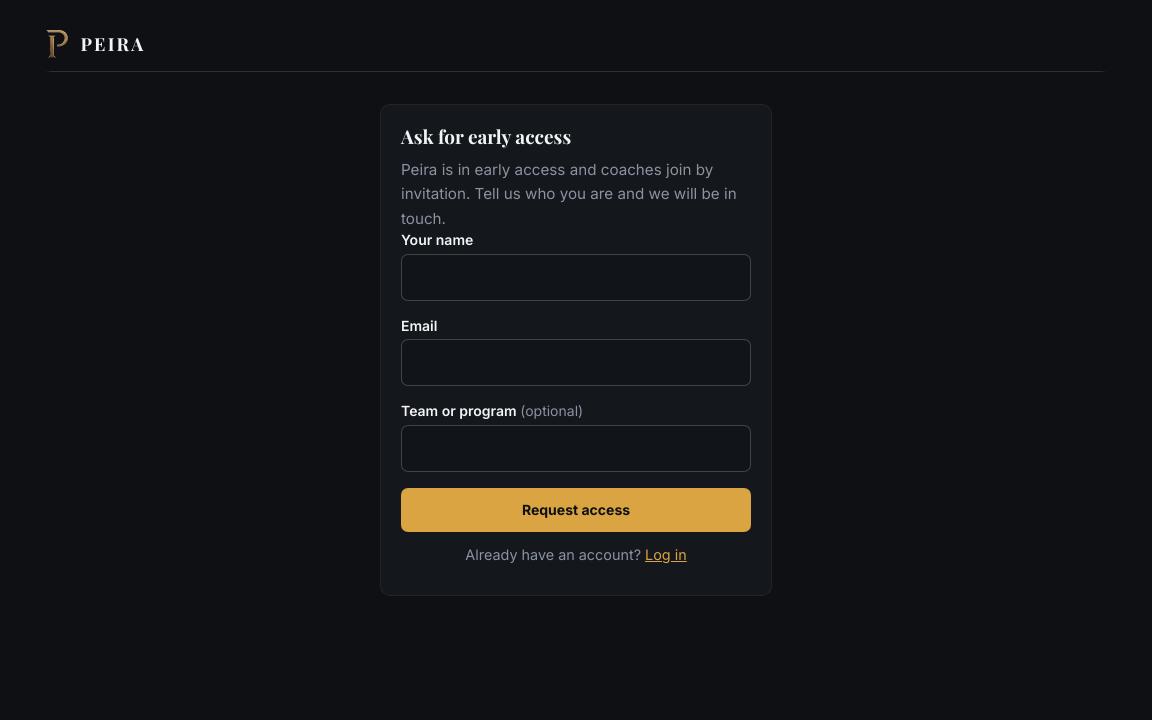
Test: RequestAccessPage › replaces the form with the confirmation the server sent
Type "Coach Smith" into the field labelled "Your name".
click(576, 277); type("Coach Smith")  # box [401,254,751,301]
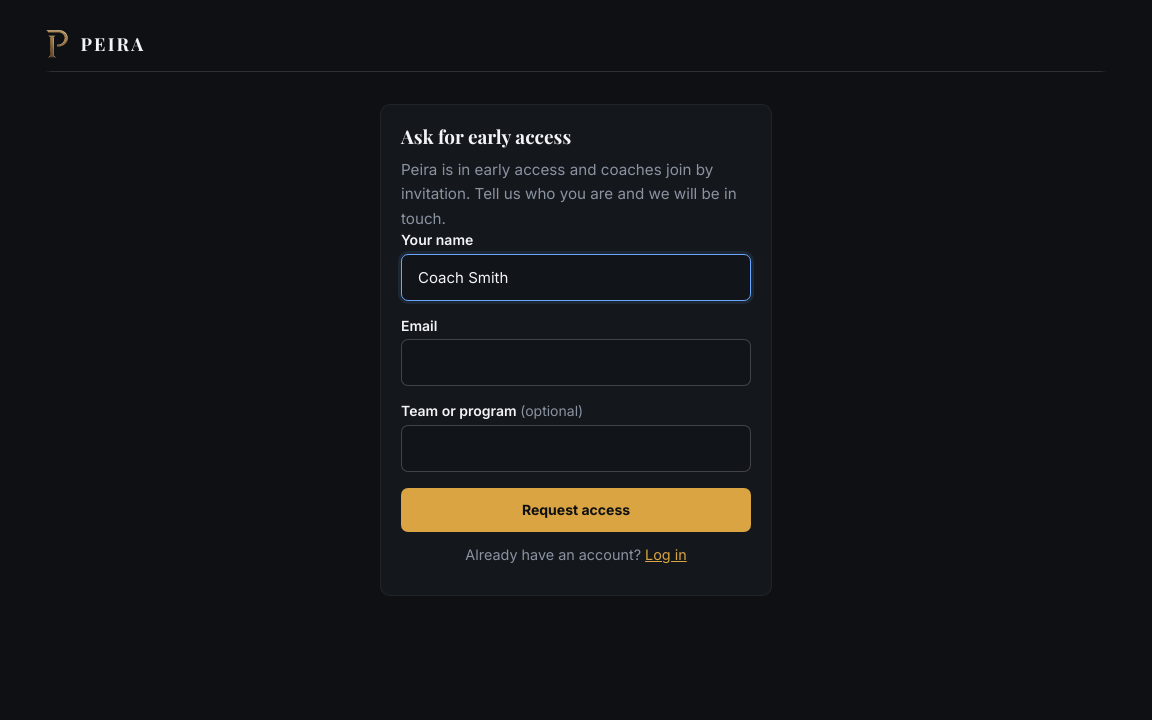
Type "smith@example.com" into the field labelled "Email".
click(576, 363); type("smith@example.com")  # box [401,339,751,386]
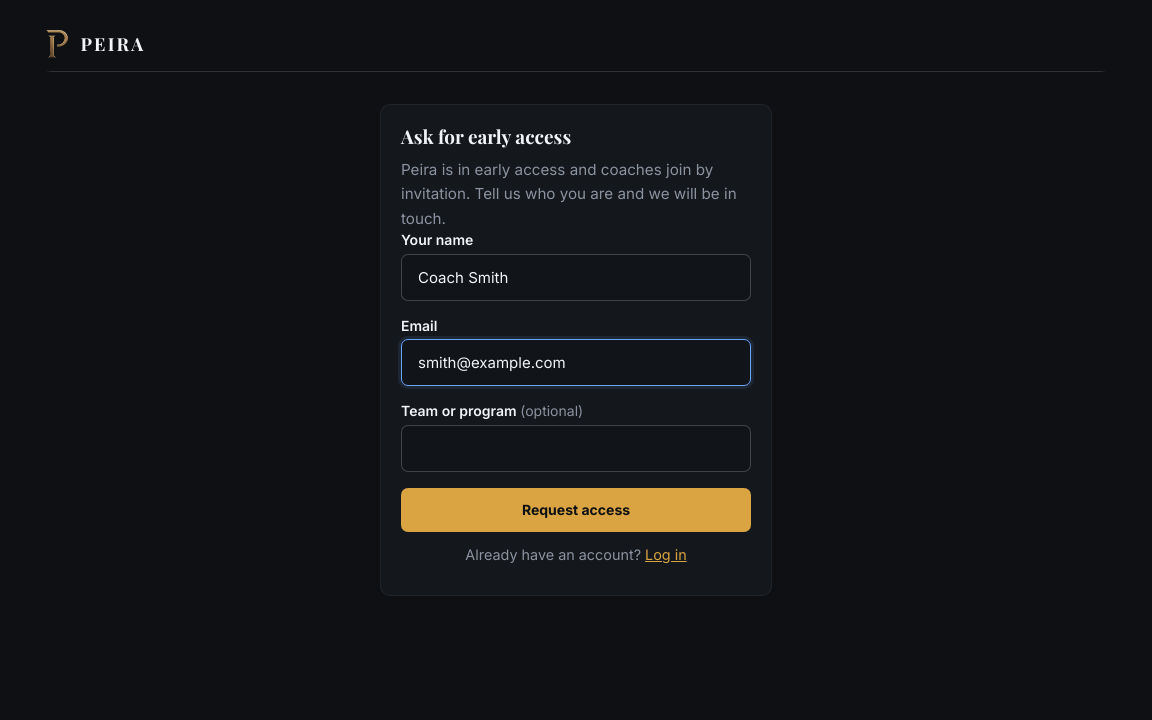
Click the button "Request access".
click(576, 510)  # box [401,488,751,532]
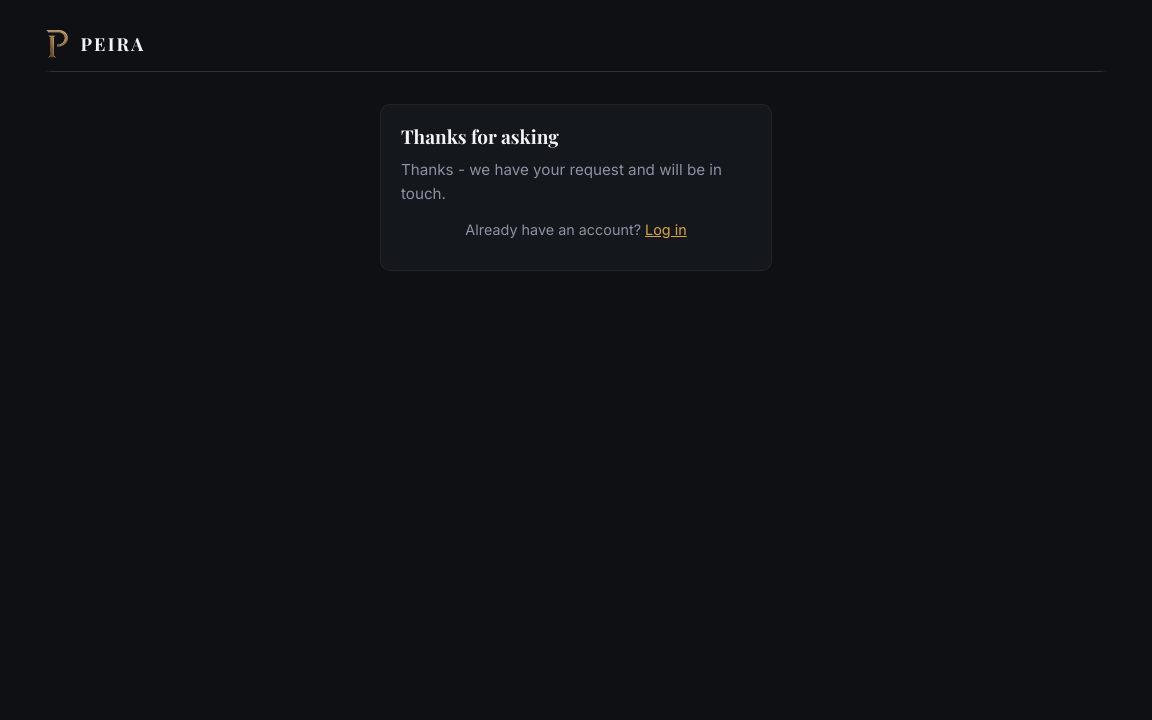
Now the text "Thanks - we have your request and will be in touch." is shown, box [401,158,751,207]
Now the button "Request access" is gone
